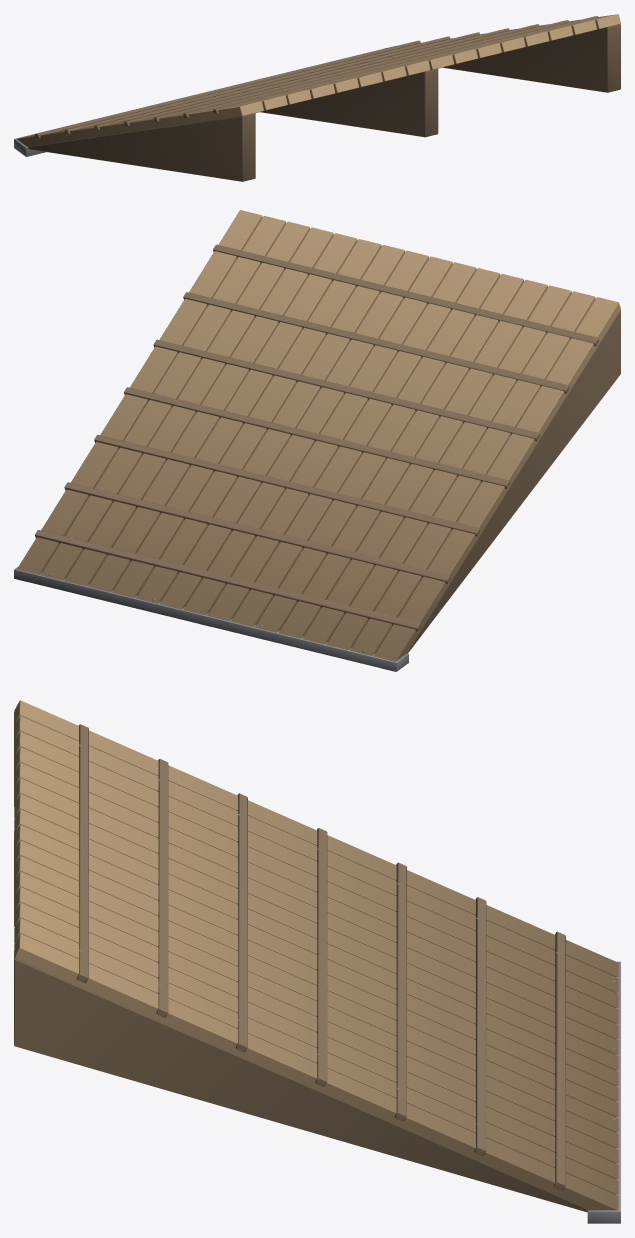
The model's file is rig_deck_ramp.glb.
3 renders of one model, top to bottom at view 1: azimuth 30°, elevation 25°; view 2: azimuth 150°, elevation 25°; view 3: azimuth 270°, elevation 25°, orthographic. The views are drawn at different scales.
Visible parts, largest first — view 1: rig_deck_ramp; view 2: rig_deck_ramp; view 3: rig_deck_ramp.
Part boxes in pixels (x1,y1,x2,y2): rig_deck_ramp: (14, 14, 620, 181); rig_deck_ramp: (14, 210, 620, 671); rig_deck_ramp: (14, 700, 620, 1223).
Bounding box in the file's own units: 3.9 × 2 × 4.
